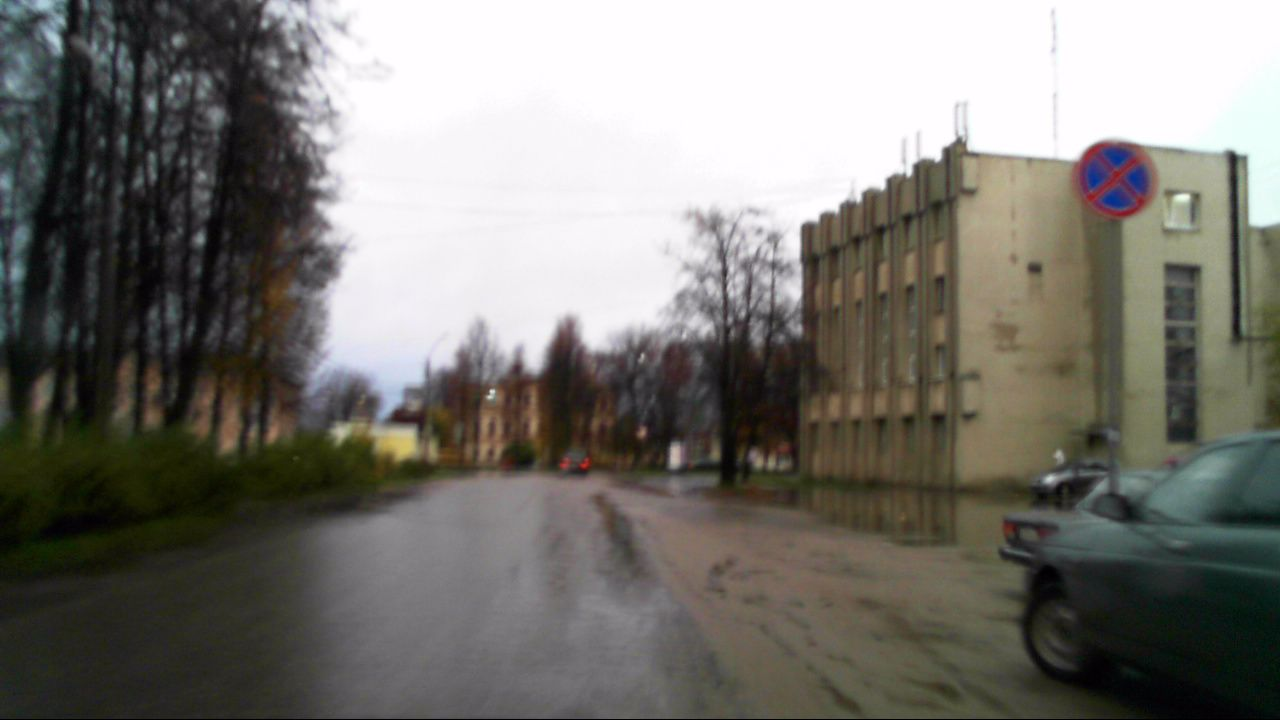No Parking: (1080, 139, 1156, 220)
